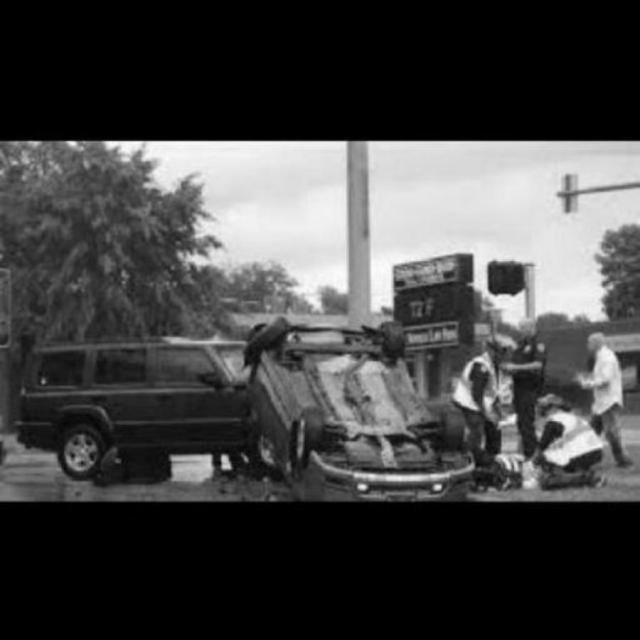accident: (27, 328, 430, 490)
person: (564, 320, 640, 474), (453, 327, 525, 481), (534, 378, 610, 491), (506, 305, 544, 459)
